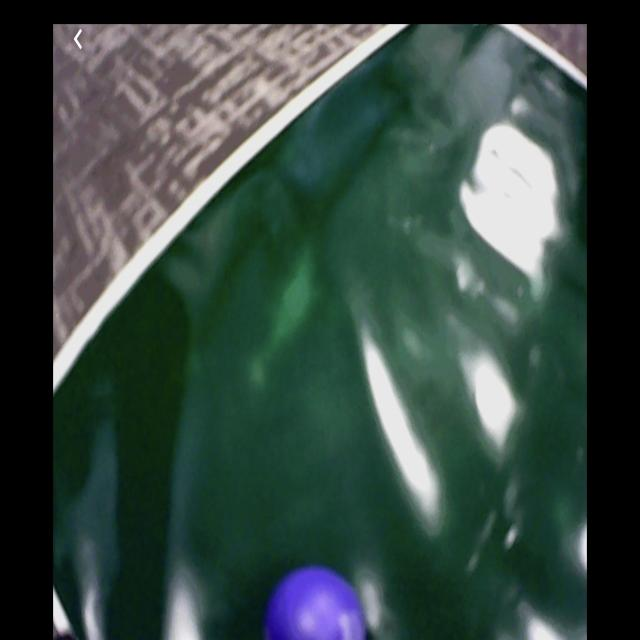ball: (265, 568, 368, 640)
